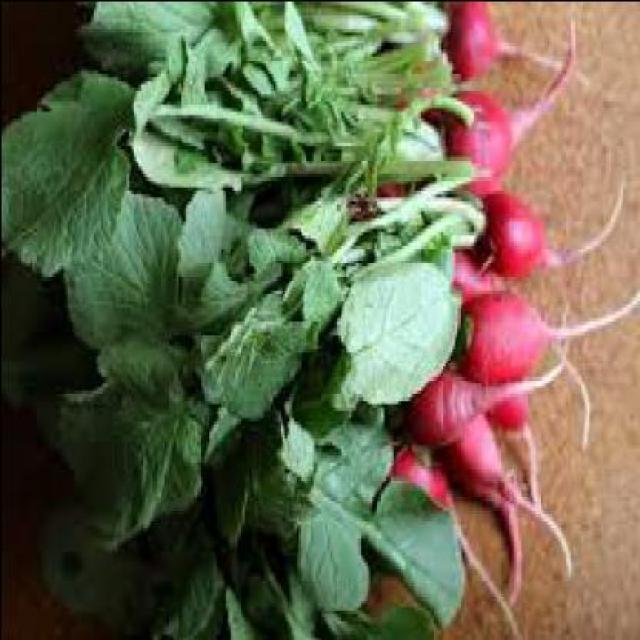BIODEGRADABLE: (2, 255, 466, 547), (40, 385, 468, 637), (2, 62, 475, 278), (64, 182, 488, 348), (78, 0, 453, 111), (394, 440, 524, 637), (442, 10, 578, 193), (439, 410, 575, 578), (406, 334, 569, 448), (458, 282, 638, 383), (437, 440, 525, 606), (477, 176, 623, 276), (444, 0, 585, 83), (376, 76, 444, 192), (488, 388, 544, 502), (451, 244, 512, 296)
